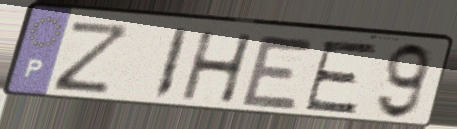9: (374, 41, 434, 122)
E: (237, 31, 319, 113), (300, 39, 382, 116)
H: (179, 30, 257, 105)
I: (149, 25, 192, 103)
Z: (49, 18, 135, 97)
